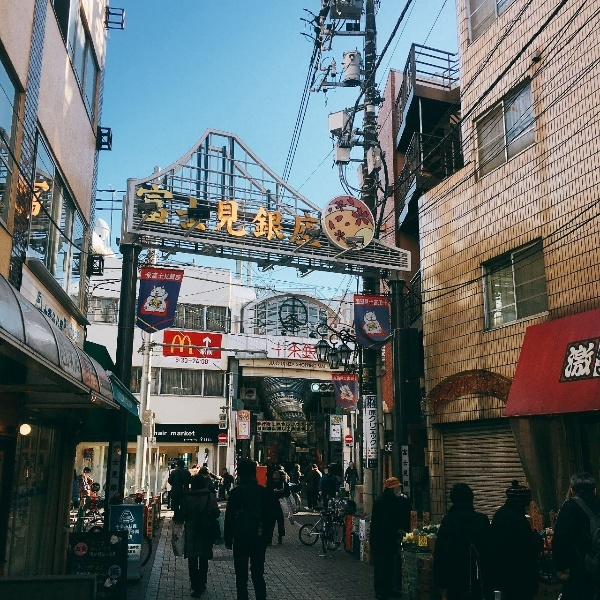text: (145, 182, 160, 249), (161, 182, 176, 249), (177, 182, 192, 249), (193, 182, 208, 249), (209, 182, 224, 249), (225, 182, 240, 249), (241, 182, 256, 249), (257, 182, 272, 249), (273, 182, 288, 249), (289, 182, 304, 249), (305, 182, 320, 249), (113, 445, 128, 506), (65, 292, 81, 345), (49, 292, 64, 345), (402, 451, 416, 499), (134, 182, 144, 249), (65, 338, 81, 376), (369, 410, 384, 447), (577, 344, 592, 380), (38, 292, 48, 345), (83, 360, 96, 389), (177, 334, 193, 355), (149, 511, 160, 539), (273, 343, 288, 361), (289, 343, 304, 361), (305, 343, 319, 361), (117, 390, 128, 411), (59, 338, 64, 376), (571, 344, 576, 380), (363, 411, 368, 445), (99, 378, 112, 391), (593, 344, 597, 380), (545, 589, 559, 599), (145, 272, 160, 281), (161, 272, 176, 281), (369, 298, 384, 307), (533, 504, 544, 516), (371, 398, 384, 408), (534, 517, 544, 529), (361, 524, 368, 541), (552, 513, 560, 527), (356, 298, 368, 307), (129, 390, 134, 411), (177, 359, 192, 366), (193, 359, 208, 366), (424, 515, 432, 528), (375, 397, 384, 408), (81, 566, 96, 572), (273, 422, 288, 428), (289, 422, 304, 428), (385, 445, 400, 451), (420, 540, 432, 547), (113, 567, 120, 578), (177, 432, 192, 437), (257, 422, 272, 427), (337, 376, 352, 381), (116, 525, 128, 531), (305, 362, 317, 368), (97, 548, 111, 553), (321, 182, 322, 249), (117, 525, 128, 531), (305, 422, 316, 428), (131, 531, 144, 536), (173, 334, 176, 355), (361, 553, 368, 562), (97, 553, 112, 557), (273, 428, 288, 432), (289, 428, 304, 432), (97, 465, 112, 469), (97, 360, 99, 389), (81, 547, 89, 554), (258, 427, 272, 431), (370, 460, 384, 464), (361, 543, 368, 551), (129, 555, 140, 560), (363, 398, 368, 409), (97, 541, 106, 547), (305, 428, 318, 432), (129, 525, 137, 531), (200, 350, 208, 356), (412, 516, 416, 528), (356, 509, 368, 513), (296, 362, 304, 368), (177, 272, 182, 281), (369, 450, 384, 453), (241, 413, 250, 418), (97, 566, 104, 572), (370, 464, 384, 467), (281, 361, 288, 367), (369, 447, 379, 451), (358, 512, 368, 516), (369, 451, 378, 455), (369, 455, 378, 459), (241, 417, 250, 421), (289, 361, 295, 367), (161, 431, 168, 436), (201, 438, 208, 443), (273, 361, 280, 366), (321, 364, 328, 369), (129, 548, 140, 551), (129, 551, 137, 555), (91, 541, 96, 547), (541, 589, 544, 599), (76, 547, 80, 554), (385, 298, 388, 307), (91, 548, 96, 553), (155, 431, 160, 436), (331, 416, 336, 421), (337, 416, 342, 421), (90, 553, 96, 557), (184, 439, 192, 442), (209, 350, 213, 356), (388, 443, 400, 445), (172, 432, 176, 437), (353, 376, 357, 381), (363, 454, 368, 458), (193, 432, 196, 437), (193, 439, 198, 442), (209, 438, 212, 443), (331, 421, 336, 424), (337, 421, 342, 424), (363, 447, 368, 450), (113, 553, 116, 557), (78, 566, 80, 572), (346, 444, 352, 446), (364, 464, 368, 467), (111, 567, 112, 578), (367, 397, 368, 408), (369, 397, 370, 408), (334, 376, 336, 381), (219, 444, 224, 446), (238, 413, 240, 418), (363, 452, 368, 454), (363, 458, 368, 460), (270, 361, 272, 366), (318, 364, 320, 369), (93, 485, 96, 488), (126, 512, 128, 516), (364, 461, 368, 463), (97, 485, 99, 488), (363, 450, 368, 451), (129, 512, 130, 516), (239, 417, 240, 421), (225, 444, 226, 446)
